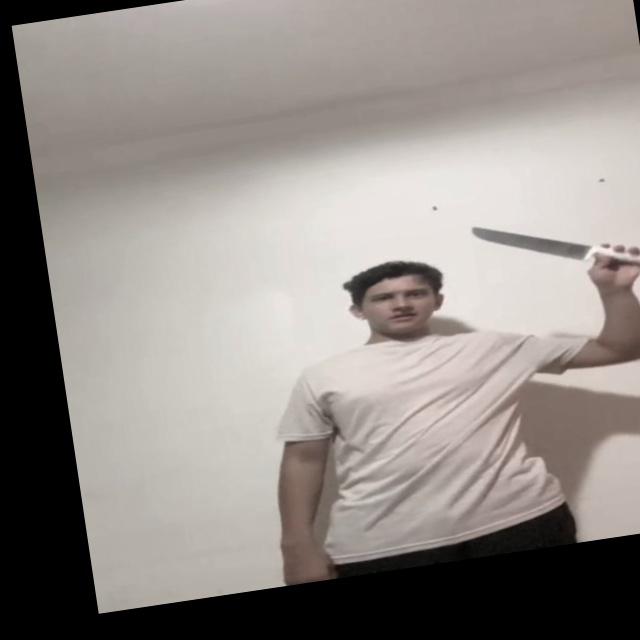Sharp-Object: (467, 207, 593, 273)
